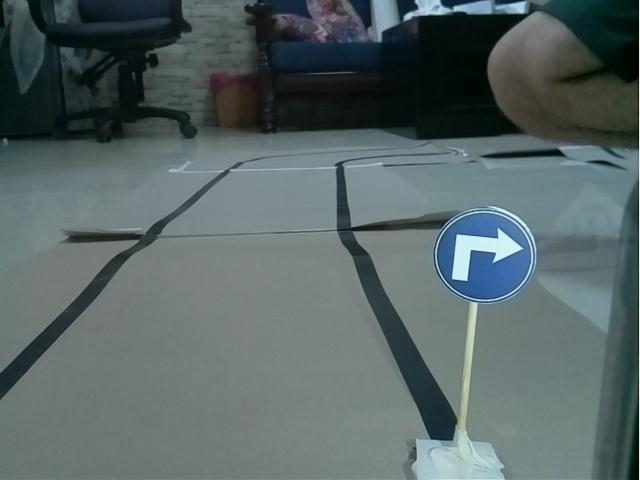turn: (432, 204, 541, 306)
